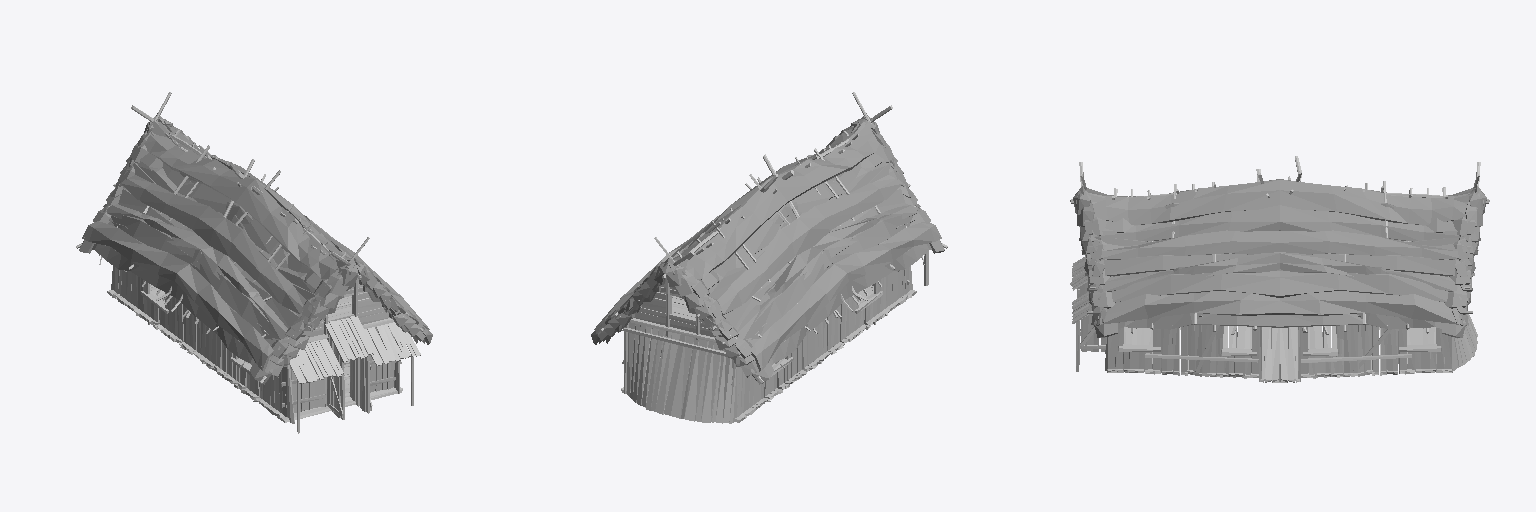
File: LOD1_long_house.obj
The picture shows the model from 3 angles: view 1: azimuth 30°, elevation 25°; view 2: azimuth 150°, elevation 25°; view 3: azimuth 270°, elevation 25°; orthographic projection.
Visible parts, largest first — view 1: thatch_with_opacity.002_opacity.003, barn.002_Cube.010; view 2: thatch_with_opacity.002_opacity.003, barn.002_Cube.010; view 3: thatch_with_opacity.002_opacity.003, barn.002_Cube.010.
Part boxes in pixels (left/top/right/bottom): thatch_with_opacity.002_opacity.003: left=79, top=113, right=432, bottom=384; barn.002_Cube.010: left=76, top=92, right=423, bottom=433; thatch_with_opacity.002_opacity.003: left=591, top=113, right=944, bottom=384; barn.002_Cube.010: left=600, top=92, right=947, bottom=423; thatch_with_opacity.002_opacity.003: left=1073, top=179, right=1486, bottom=337; barn.002_Cube.010: left=1070, top=156, right=1489, bottom=382.
Size of the model in its own units: 28.33 by 26.97 by 55.78.